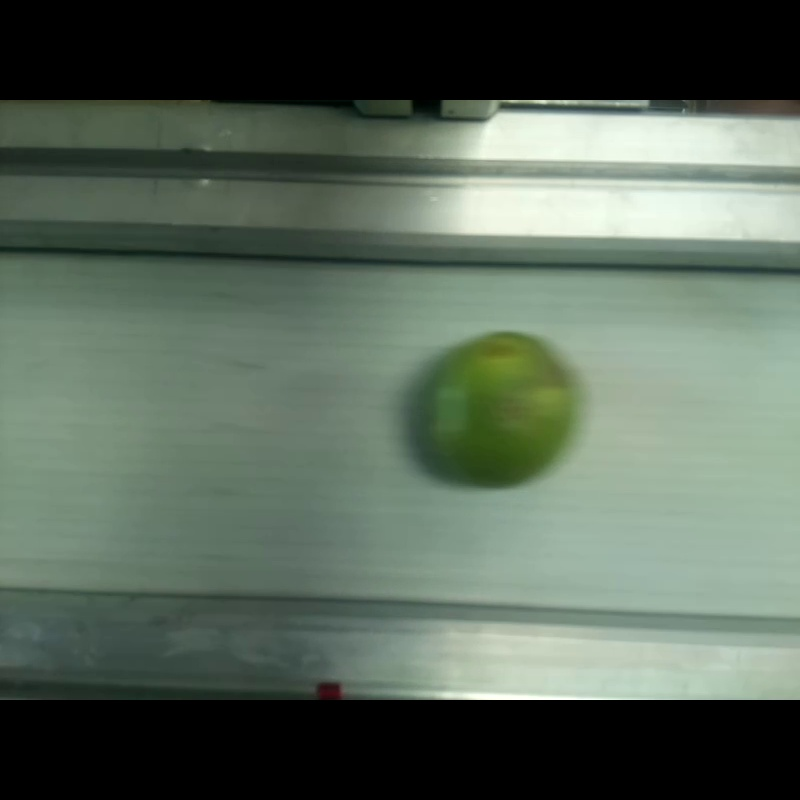lime: (419, 333, 573, 487)
